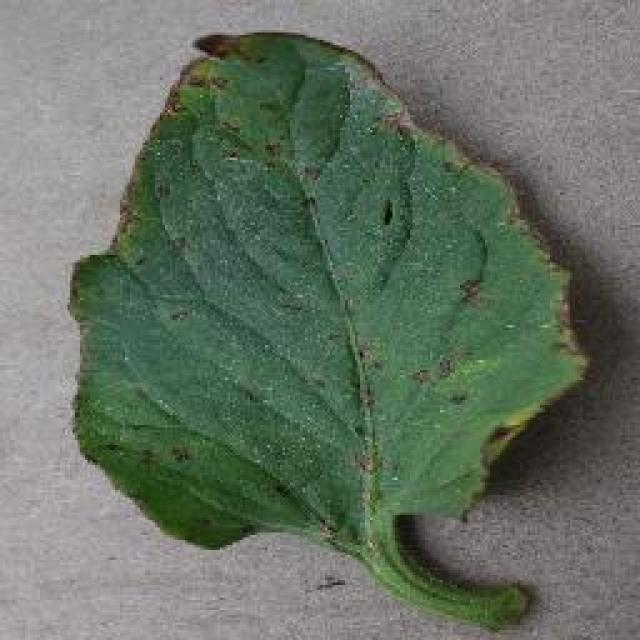Tomato bacterial spot leaf: (55, 24, 595, 558)
